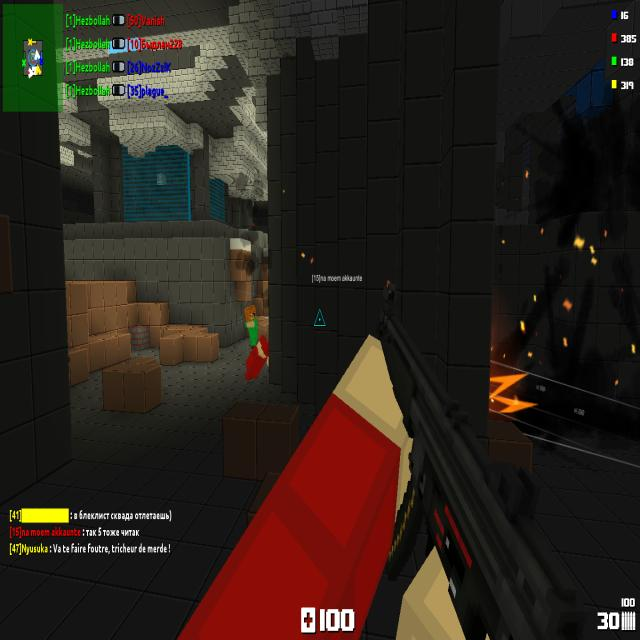enemy: (244, 304, 258, 351)
